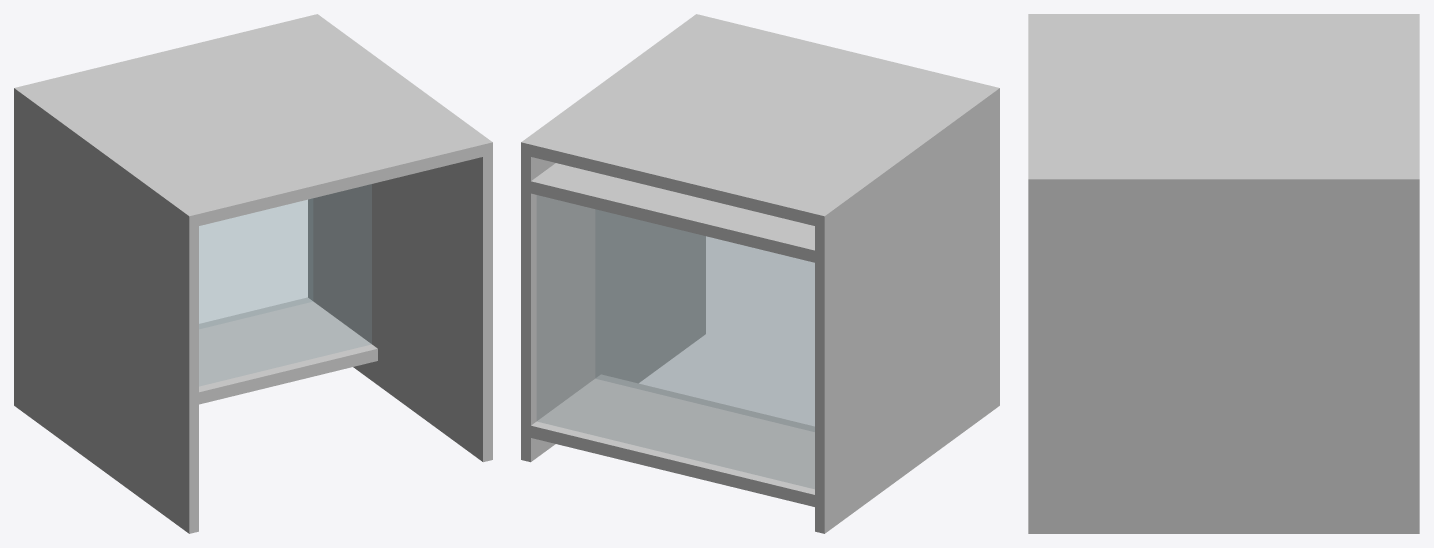
File: sh-contrib-railing-glass.glb
3 views of the same model, side by side, from view 1: azimuth 30°, elevation 25°; view 2: azimuth 150°, elevation 25°; view 3: azimuth 270°, elevation 25° (orthographic). The views are drawn at different scales.
Parts seen in each view (by area): view 1: 1_1, 2_2; view 2: 1_1, 2_2; view 3: 1_1.
Part boxes in pixels (bbox=[...]): 1_1: bbox=[14, 14, 492, 533]; 2_2: bbox=[199, 184, 371, 385]; 1_1: bbox=[521, 14, 999, 533]; 2_2: bbox=[537, 195, 814, 488]; 1_1: bbox=[1028, 14, 1419, 533].
Bounding box in the file's own units: 1 × 1 × 1.
